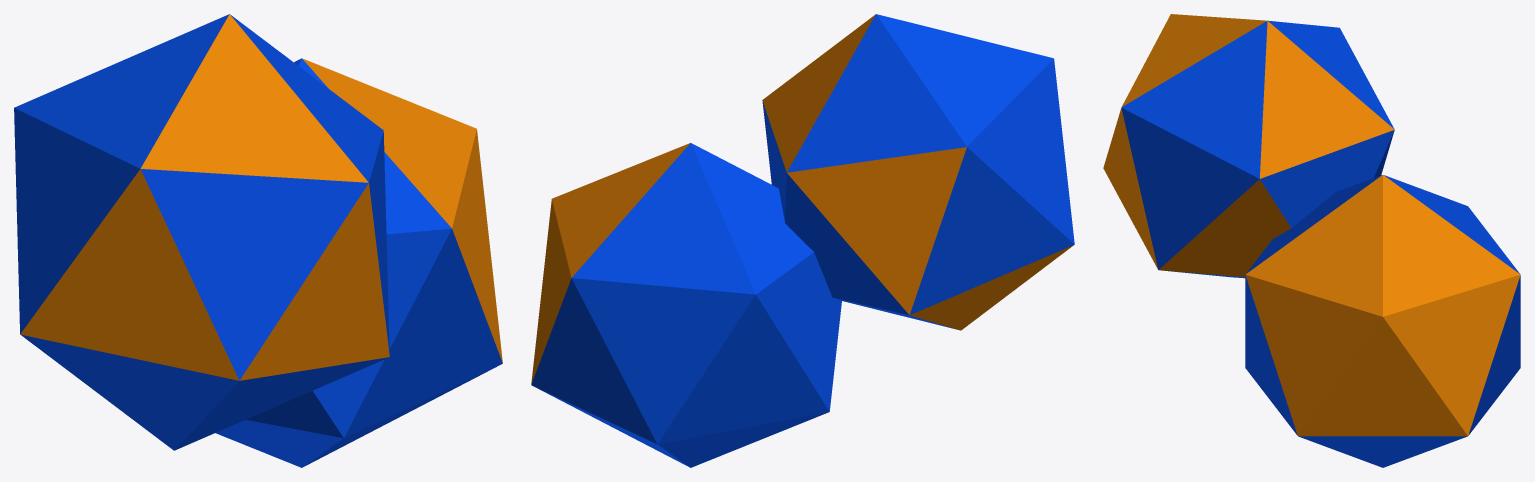
Rendered from two_spheres_with_primitives.glb.
3 views of the same model, side by side, from view 1: azimuth 30°, elevation 25°; view 2: azimuth 150°, elevation 25°; view 3: azimuth 270°, elevation 25° (orthographic). The views are drawn at different scales.
Parts seen in each view (by area): view 1: Icosphere.001, Icosphere; view 2: Icosphere, Icosphere.001; view 3: Icosphere, Icosphere.001.
Part boxes in pixels (box(x1,y1,x2,y2)): Icosphere.001: box(14, 14, 389, 450); Icosphere: box(215, 58, 502, 467); Icosphere: box(531, 143, 841, 467); Icosphere.001: box(762, 14, 1074, 330); Icosphere: box(1245, 175, 1520, 467); Icosphere.001: box(1103, 14, 1394, 278).
Size of the model in its own units: 2.85 by 2.69 by 2.58.
